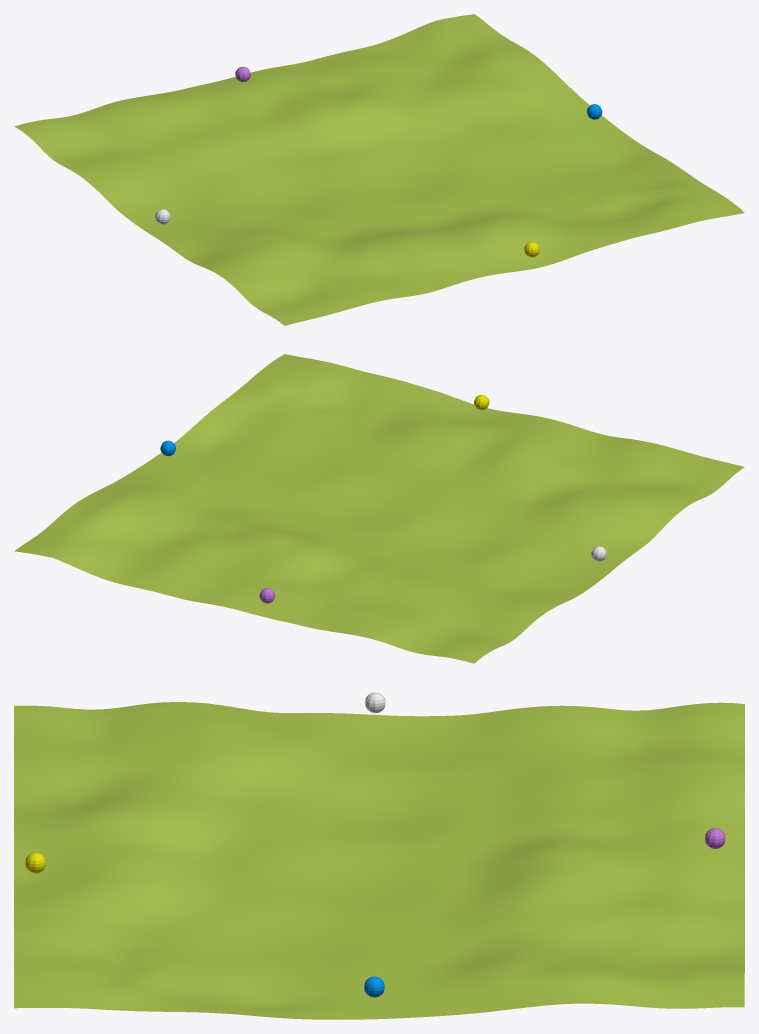
Rendered from marqueurs_carre7.fbx.
3 renders of one model, top to bottom at view 1: azimuth 30°, elevation 25°; view 2: azimuth 150°, elevation 25°; view 3: azimuth 270°, elevation 25°, orthographic. The views are drawn at different scales.
Visible parts, largest first — view 1: carre7; view 2: carre7; view 3: carre7.
Boxes of the visible parts, x1,y1,x2,y2 form: carre7: [14, 14, 744, 325]; carre7: [14, 354, 744, 663]; carre7: [14, 702, 744, 1019].
Bounding box in the file's own units: 708 × 38.19 × 720.
